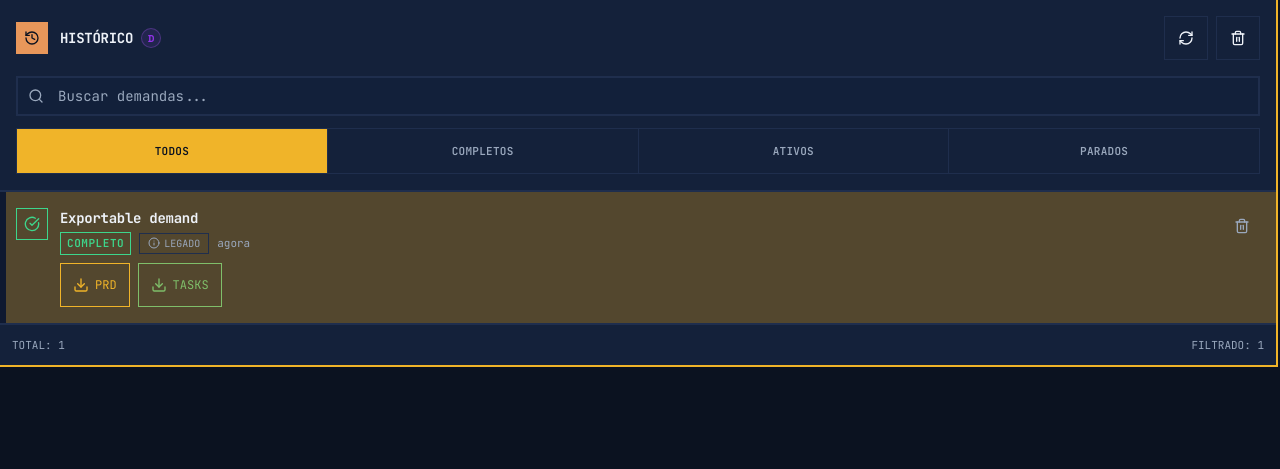
HistorySidebar DocuMente result UI › renders an actionable backend failure instead of relying on console output
Step 1. Click the button titled "Exportar PRDs para o DocuMente" → [151, 38], box [141,28,161,48]
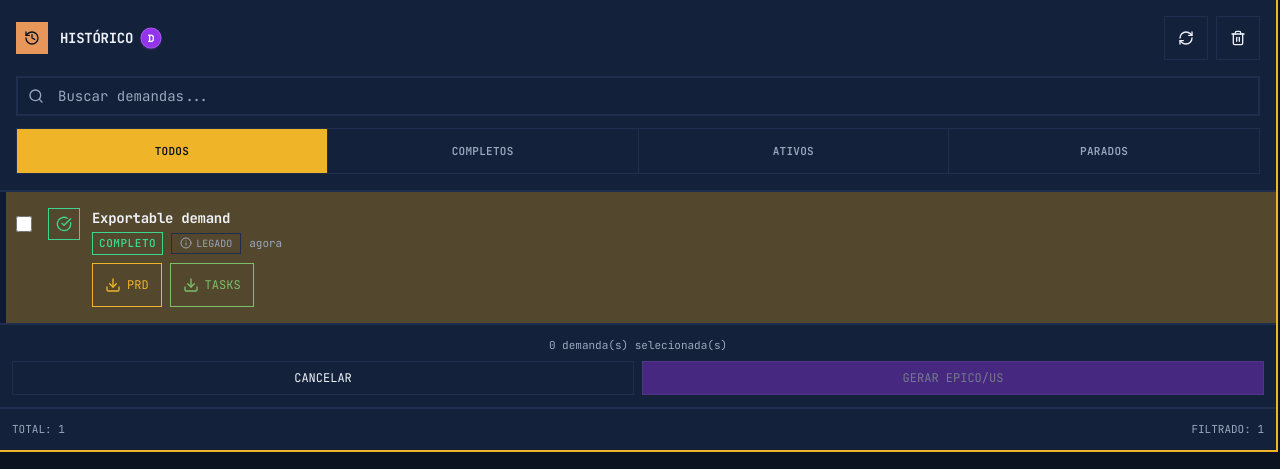
Step 2. Click the checkbox → [24, 224], box [16,216,32,232]
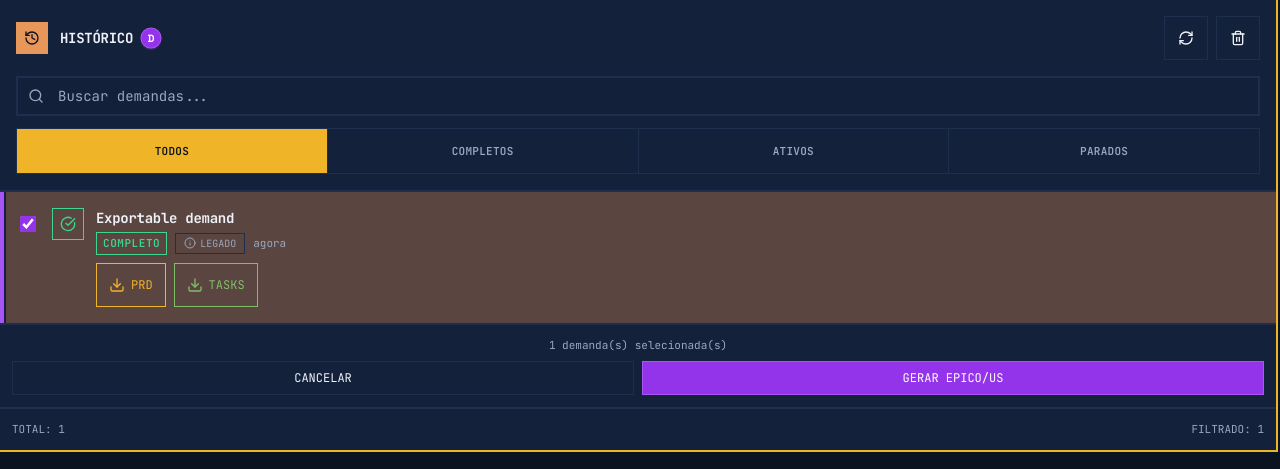
Step 3. Click the button "GERAR EPICO/US" → [953, 378], box [642,361,1264,395]
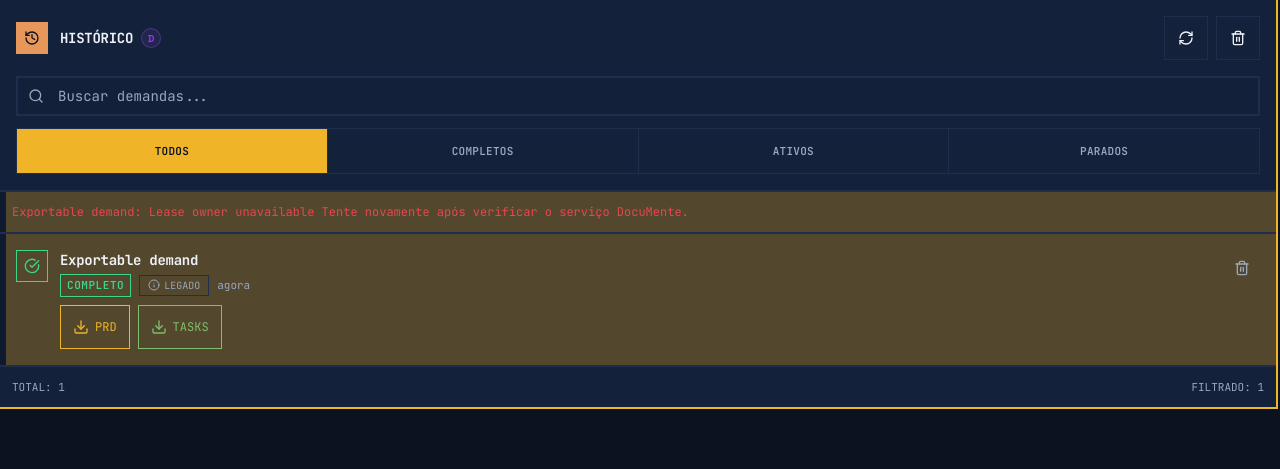
Now the 1st message shows "Lease owner unavailable", box [12,204,314,220]
Now the 1st message shows "Tente novamente", box [314,204,689,220]
